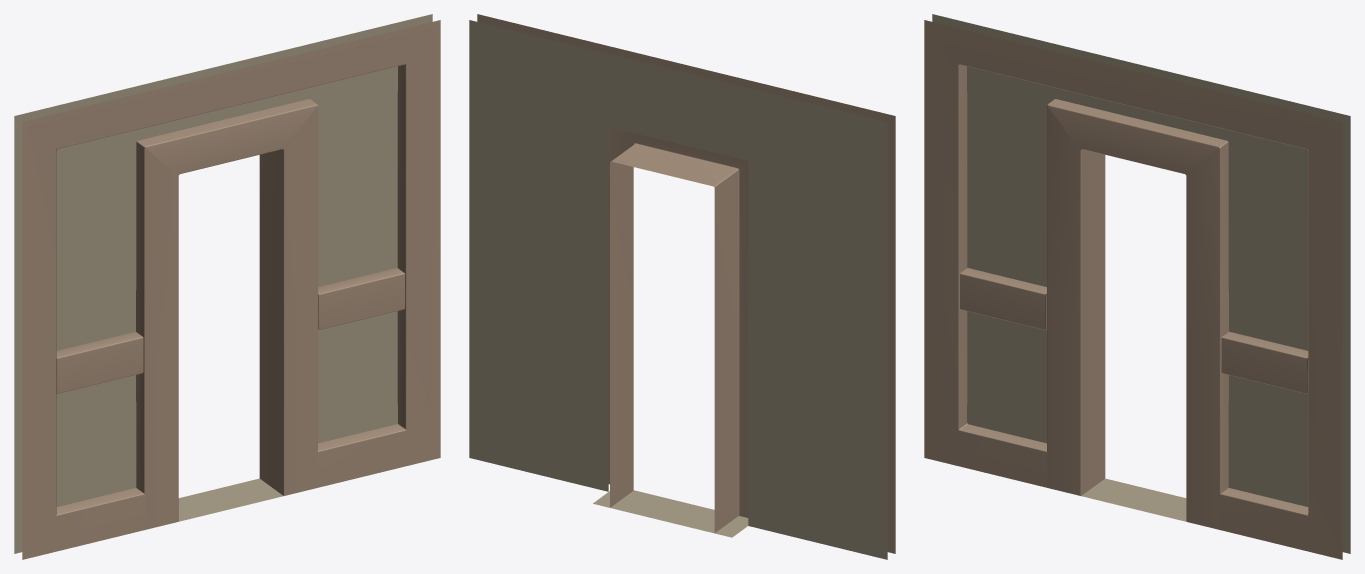
The model's file is tav_doorwall.fbx.
3 views of the same model, side by side, from view 1: azimuth 30°, elevation 25°; view 2: azimuth 150°, elevation 25°; view 3: azimuth 330°, elevation 25° (orthographic).
Parts seen in each view (by area): view 1: doorwallframe, wall; view 2: wall, doorwallframe; view 3: doorwallframe, wall.
Part boxes in pixels (x1=…): doorwallframe: x1=22, y1=20, x2=440, y2=559; wall: x1=14, y1=14, x2=432, y2=553; wall: x1=469, y1=20, x2=887, y2=559; doorwallframe: x1=477, y1=14, x2=895, y2=553; doorwallframe: x1=924, y1=20, x2=1342, y2=559; wall: x1=932, y1=14, x2=1350, y2=553.
Bounding box in the file's own units: 300 × 300 × 30.
